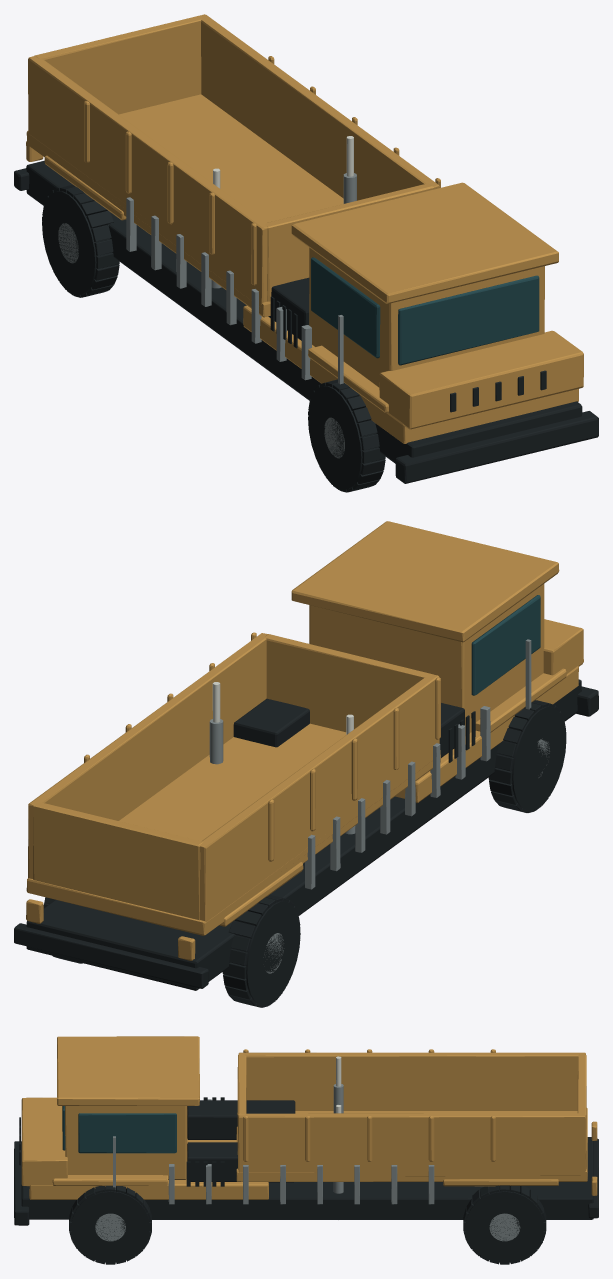
Rendered from hauler-overview.glb.
3 renders of one model, top to bottom at view 1: azimuth 30°, elevation 25°; view 2: azimuth 150°, elevation 25°; view 3: azimuth 270°, elevation 25°, orthographic. The views are drawn at different scales.
Parts seen in each view (by area): view 1: hauler_surfaces, DumpBed_surfaces, Wheel_-1_0_surfaces, Wheel_-1_1_surfaces; view 2: DumpBed_surfaces, hauler_surfaces, Wheel_-1_0_surfaces, Wheel_-1_1_surfaces; view 3: hauler_surfaces, DumpBed_surfaces, Wheel_1_0_surfaces, Wheel_1_1_surfaces.
Part boxes in pixels (box(x1,y1,x2,y2)): hauler_surfaces: box(14, 56, 598, 483); DumpBed_surfaces: box(26, 14, 439, 317); Wheel_-1_0_surfaces: box(42, 184, 119, 297); Wheel_-1_1_surfaces: box(308, 379, 385, 492); DumpBed_surfaces: box(26, 633, 440, 935); hauler_surfaces: box(14, 521, 598, 990); Wheel_-1_0_surfaces: box(222, 894, 300, 1007); Wheel_-1_1_surfaces: box(488, 700, 566, 812); hauler_surfaces: box(14, 1036, 598, 1225); DumpBed_surfaces: box(236, 1052, 587, 1181); Wheel_1_0_surfaces: box(463, 1185, 546, 1264); Wheel_1_1_surfaces: box(69, 1185, 151, 1264).
Bounding box in the file's own units: 2.27 × 2.3 × 7.57.
